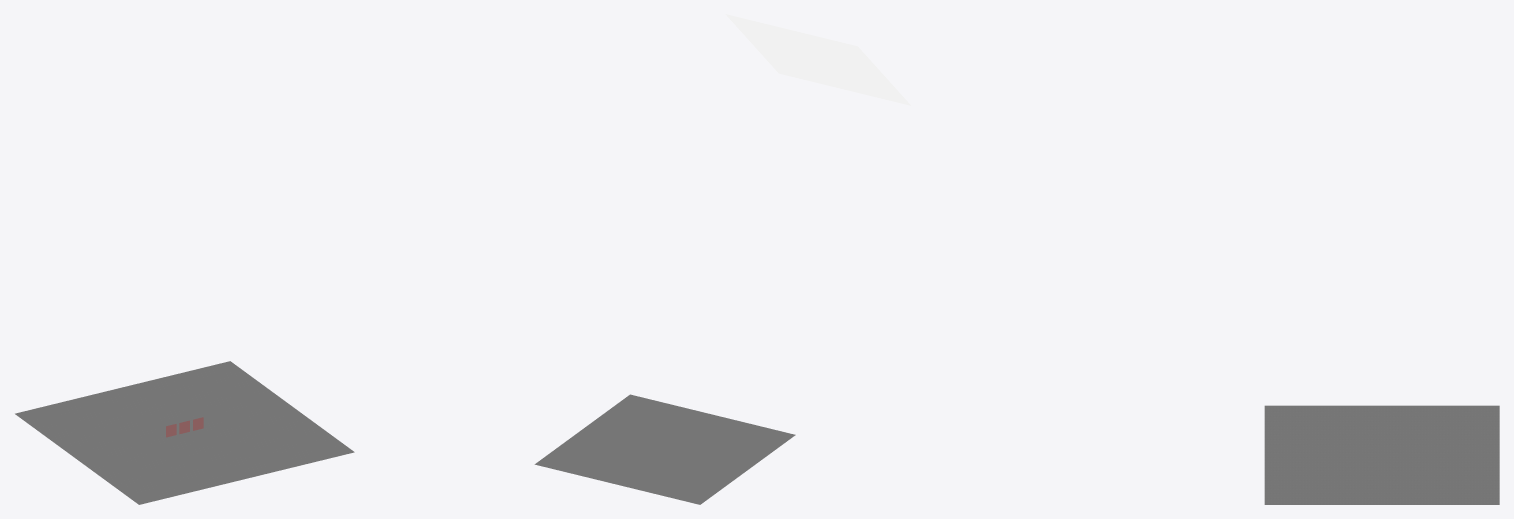
The model's file is transparent_al.gltf.
3 views of the same model, side by side, from view 1: azimuth 30°, elevation 25°; view 2: azimuth 150°, elevation 25°; view 3: azimuth 270°, elevation 25° (orthographic). The views are drawn at different scales.
Visible parts, largest first — view 1: floor_matte_grid; view 2: floor_matte_grid, alightf_light_areaf; view 3: floor_matte_grid.
Boxes of the visible parts, x1=… form: floor_matte_grid: x1=15, y1=361, x2=354, y2=504; floor_matte_grid: x1=534, y1=394, x2=795, y2=504; alightf_light_areaf: x1=725, y1=14, x2=910, y2=105; floor_matte_grid: x1=1264, y1=405, x2=1499, y2=504.
Size of the model in its own units: 40 by 75.4 by 95.22.
Materials: 6 (1 with a texture image).
